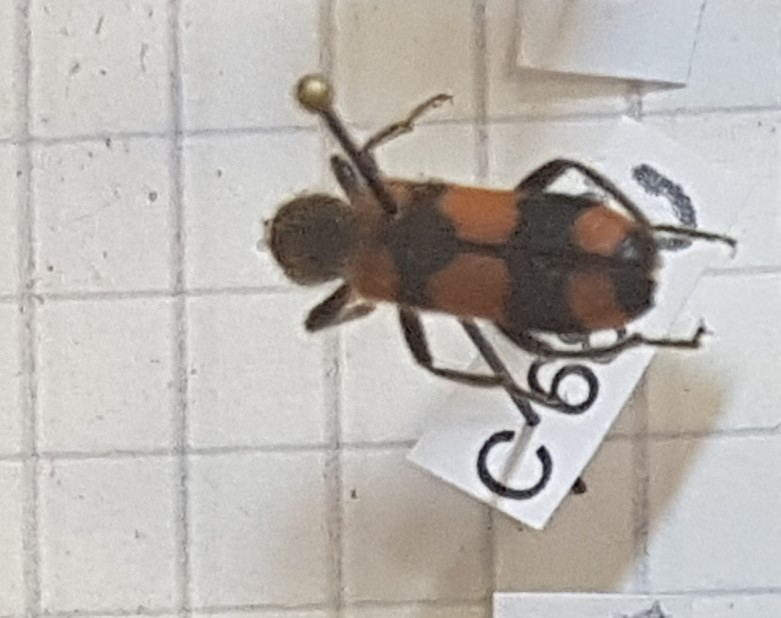trichodes_crabroniformis: (246, 150, 723, 395)
